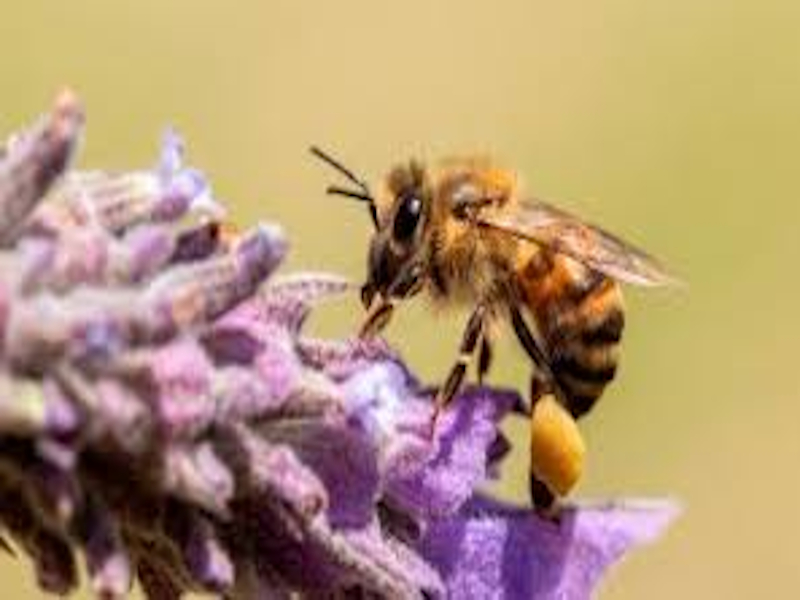abeja: (290, 108, 668, 517)
